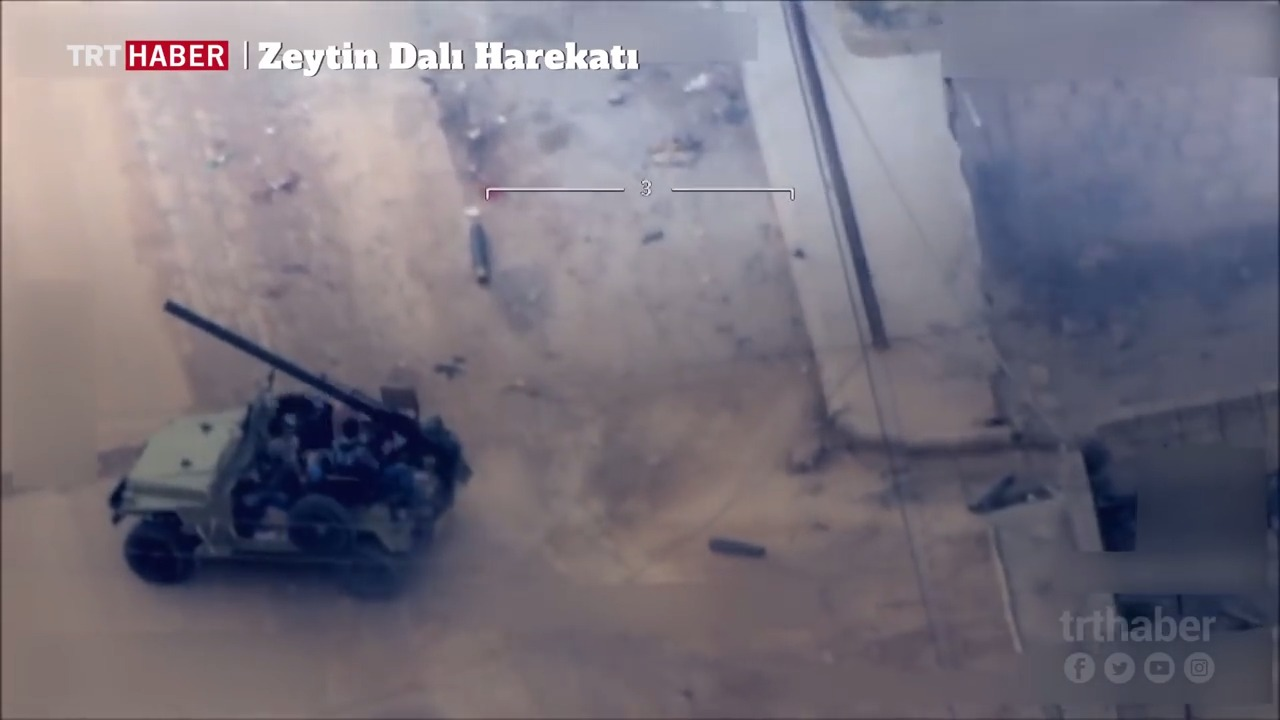arac: (102, 279, 476, 601)
